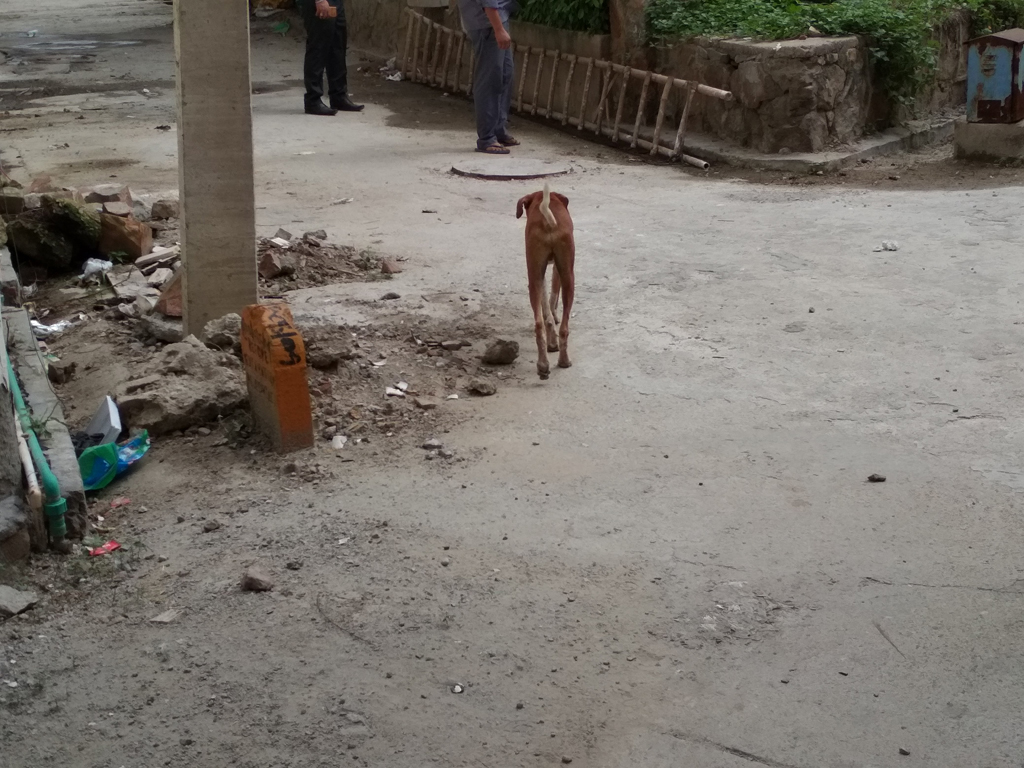dog: (516, 182, 576, 383)
